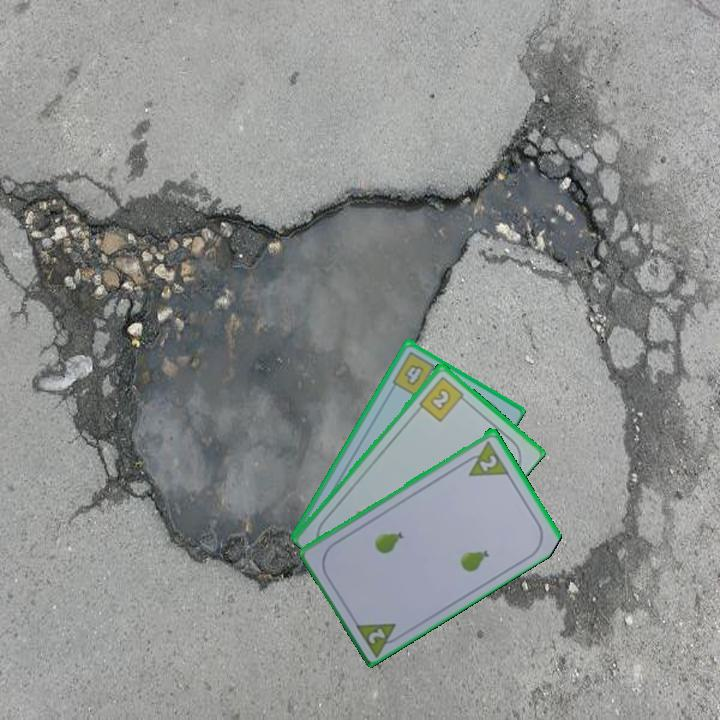2b: (415, 372, 470, 424)
2p: (364, 624, 389, 647), (476, 451, 500, 474)
4b: (389, 347, 442, 399)
